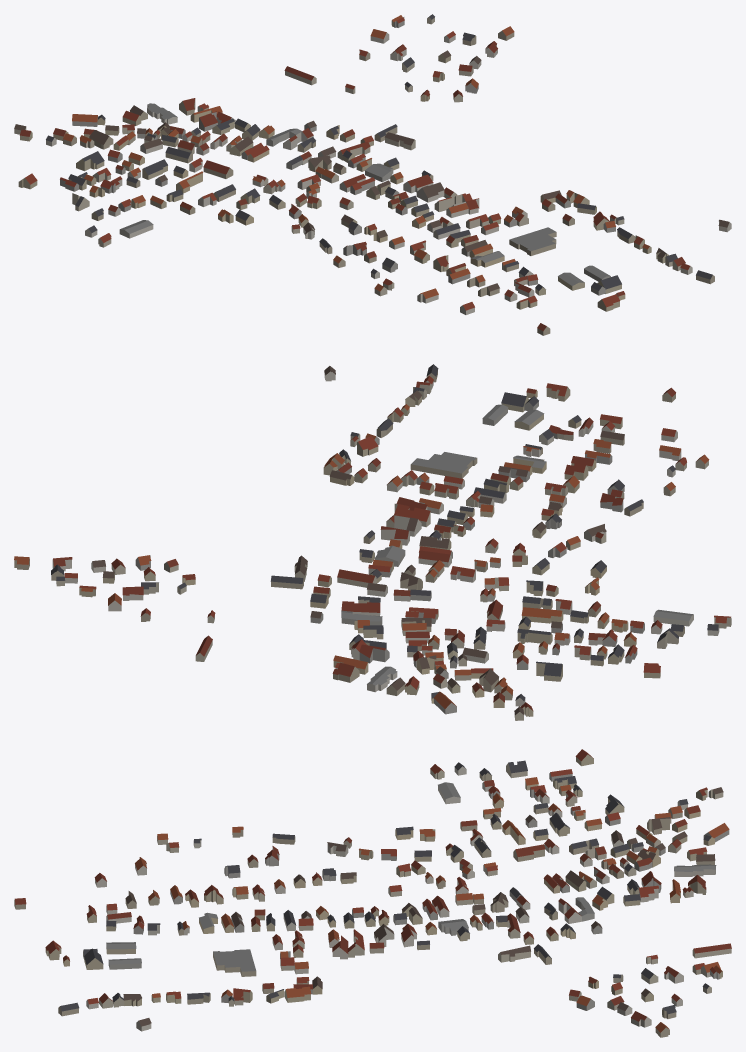
3 renders of one model, top to bottom at view 1: azimuth 30°, elevation 25°; view 2: azimuth 150°, elevation 25°; view 3: azimuth 270°, elevation 25°, orthographic. The views are drawn at different scales.
Parts seen in each view (by area): view 1: buildings; view 2: buildings; view 3: buildings.
Part boxes in pixels (<box>): buildings: <box>14,14,731,335</box>; buildings: <box>14,364,731,720</box>; buildings: <box>14,749,731,1037</box>.
Size of the model in its own units: 687 by 51.3 by 756.
